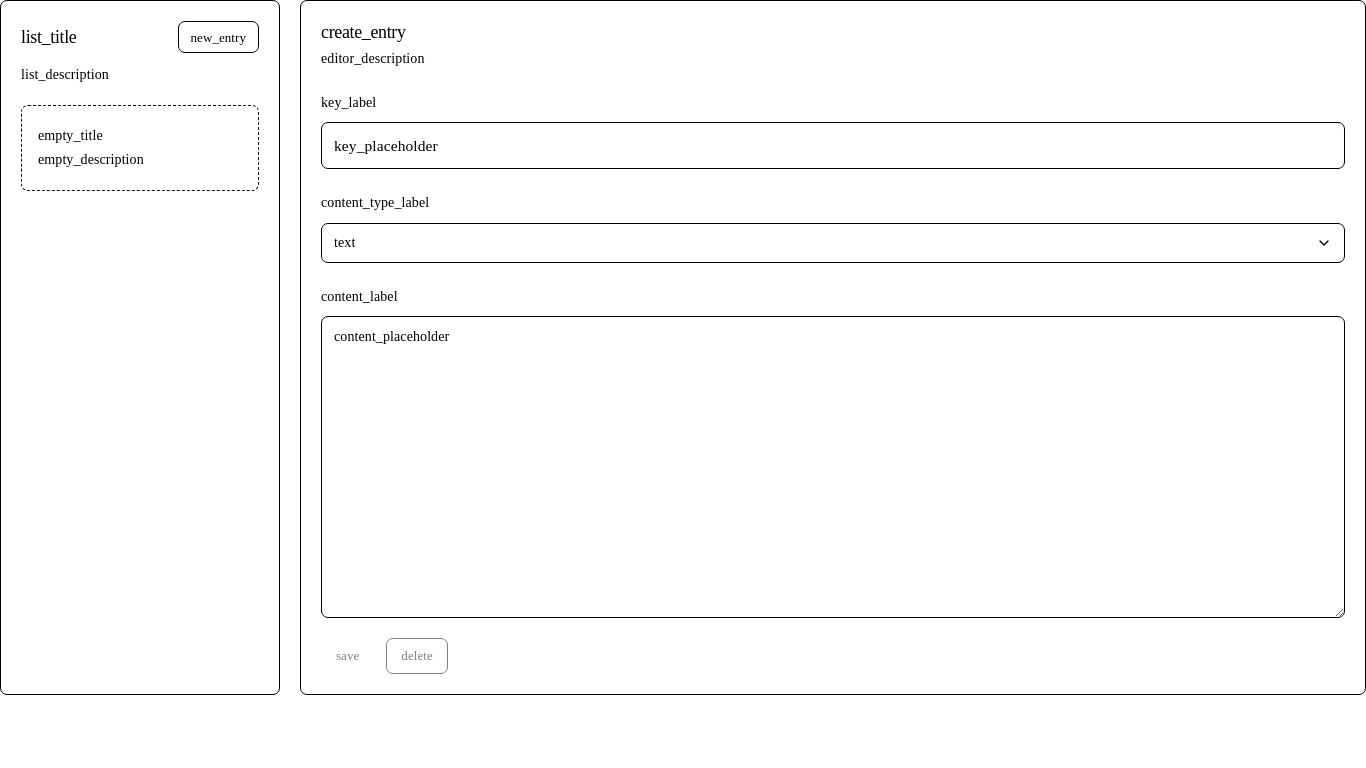
Test: ContextManager › shows API error text when save fails
Type "shared.locked" into the field with test id "context-store__key". click: (833, 146)
box: [321,122,1345,169]
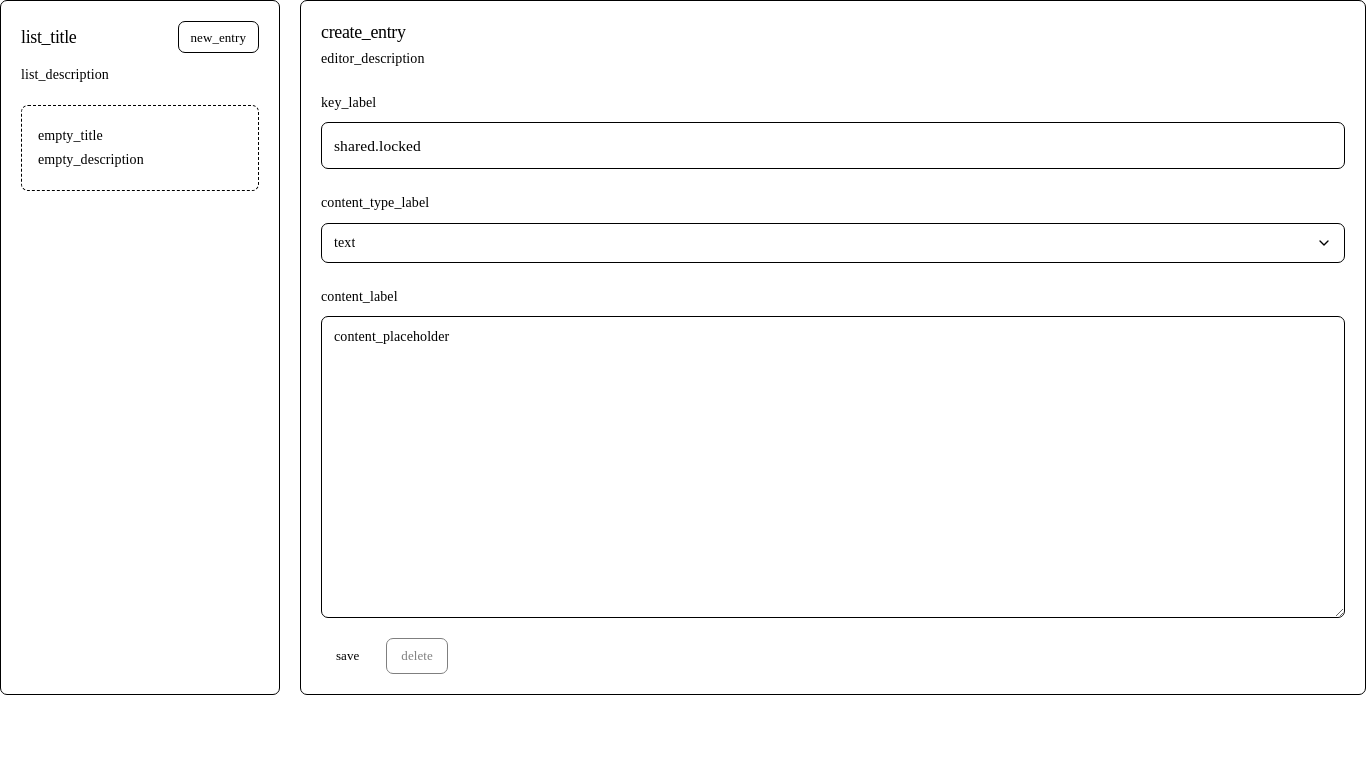
Type "Locked." into the text box with test id "context-store__content". click: (833, 467)
box: [321,316,1345,618]
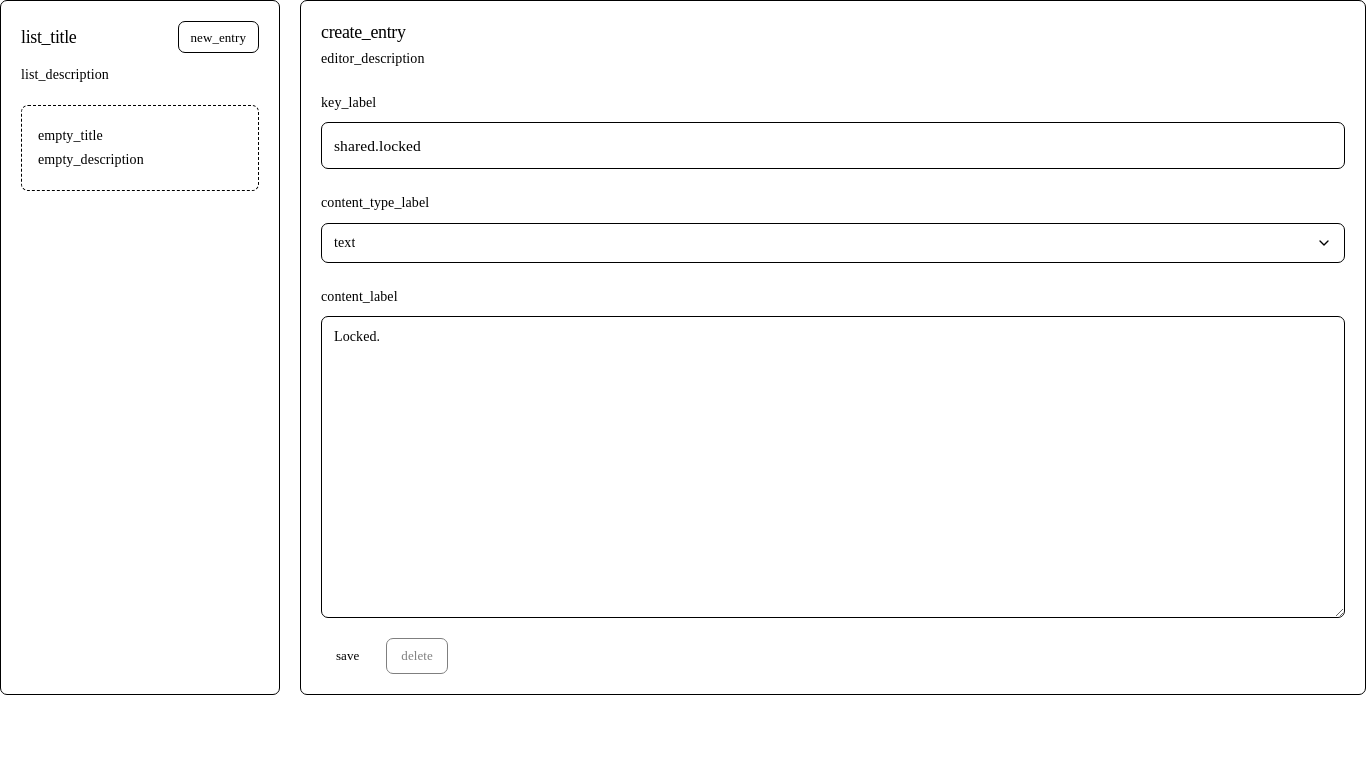
Click the button with test id "context-store__save". click: (348, 656)
box: [321,638,374,674]
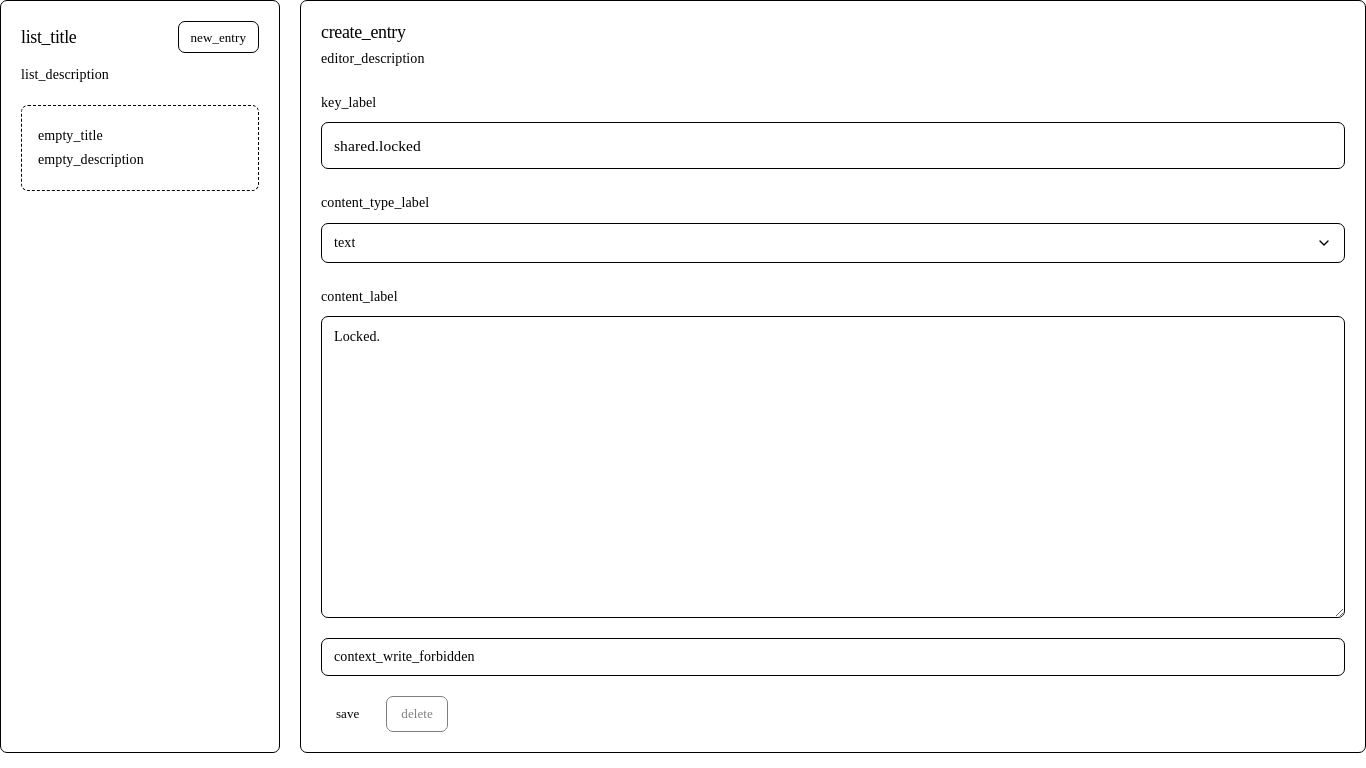
Check: the text "context_write_forbidden" is shown, box [321,638,1345,676]
